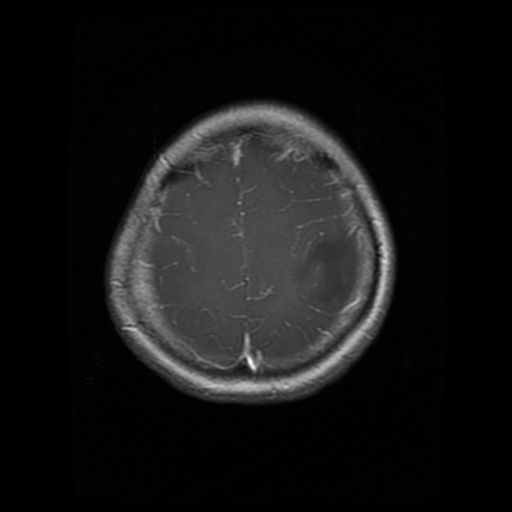glioma: (300, 226, 359, 301)
